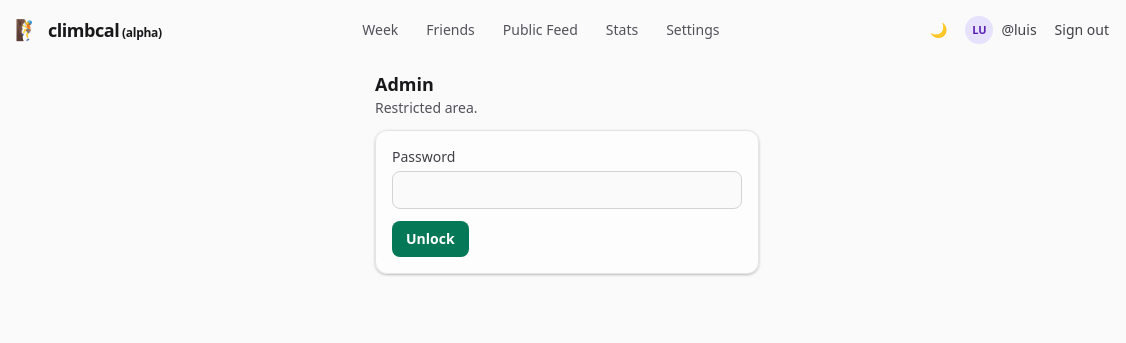
Scenario: <Admin /> › asks for the password, and refuses a wrong one
In the password field labelled "Password": (567, 190) [392, 171, 742, 209], type "letmein"
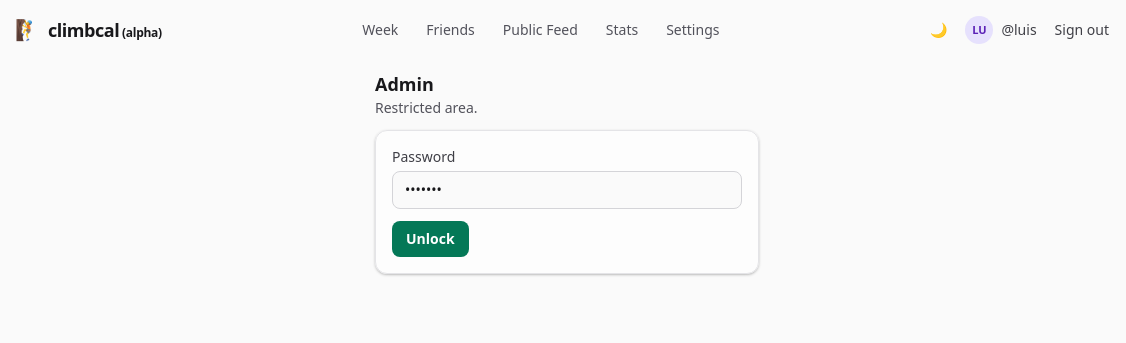
Click the button "Unlock": (430, 239) [392, 221, 469, 257]
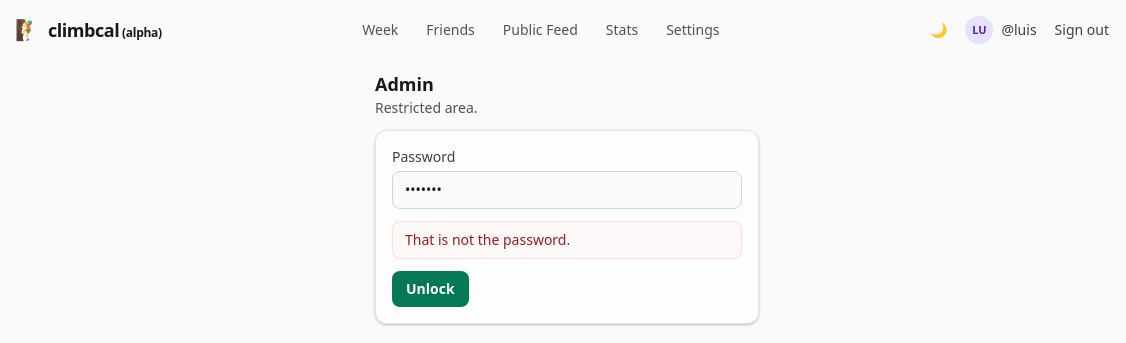
Check: the text "That is not the password." is shown, box [405, 230, 570, 250]
